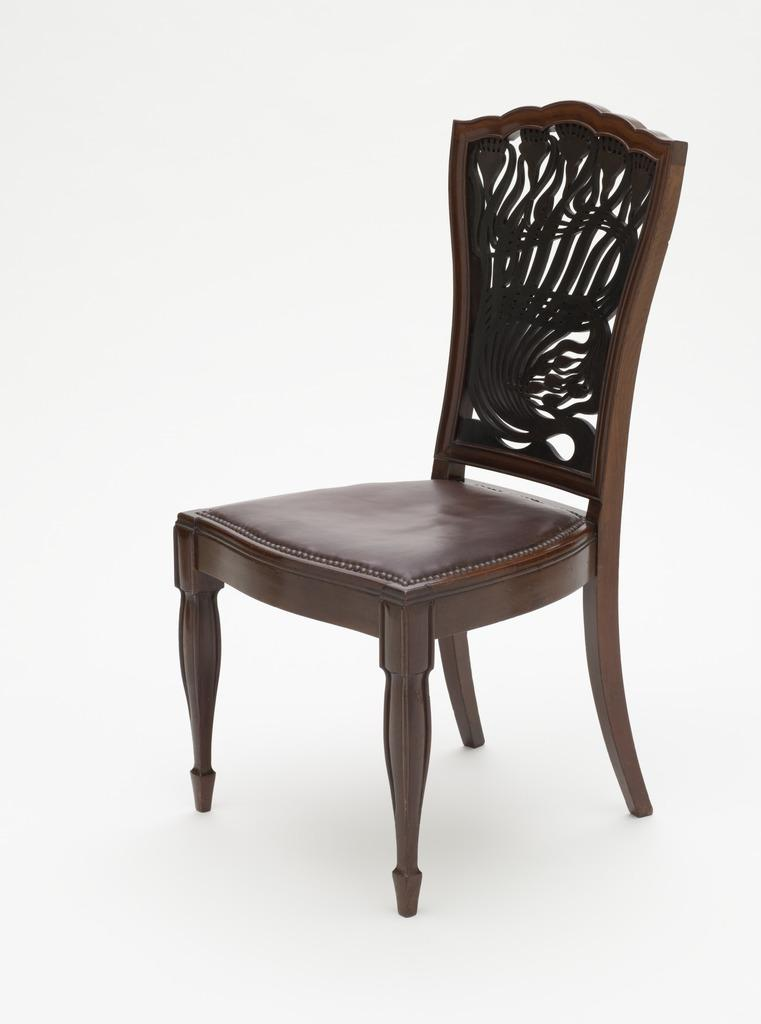Chair: (168, 95, 691, 920)
